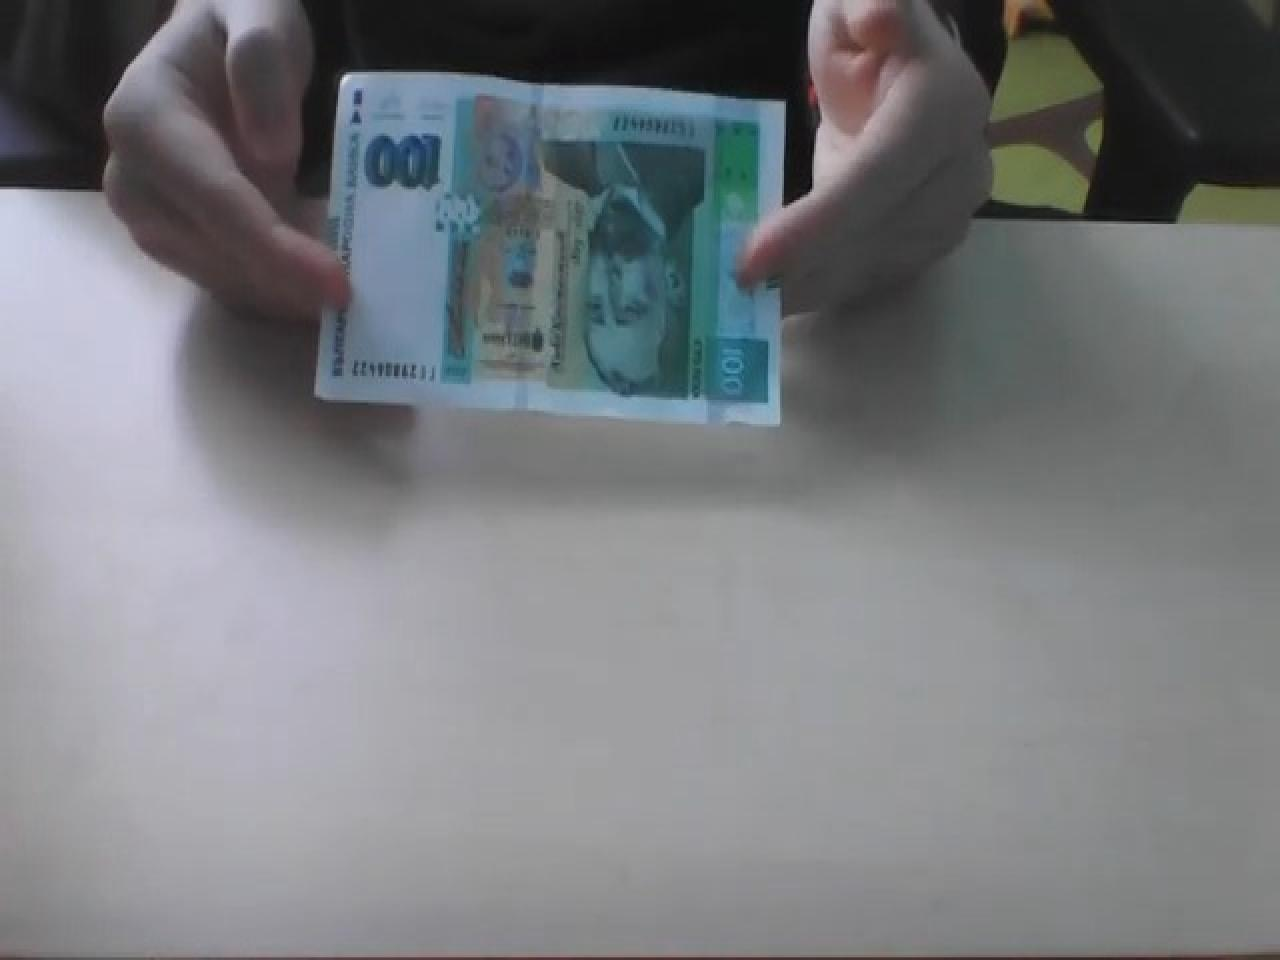100leva: (312, 67, 788, 430), (362, 128, 442, 192)
